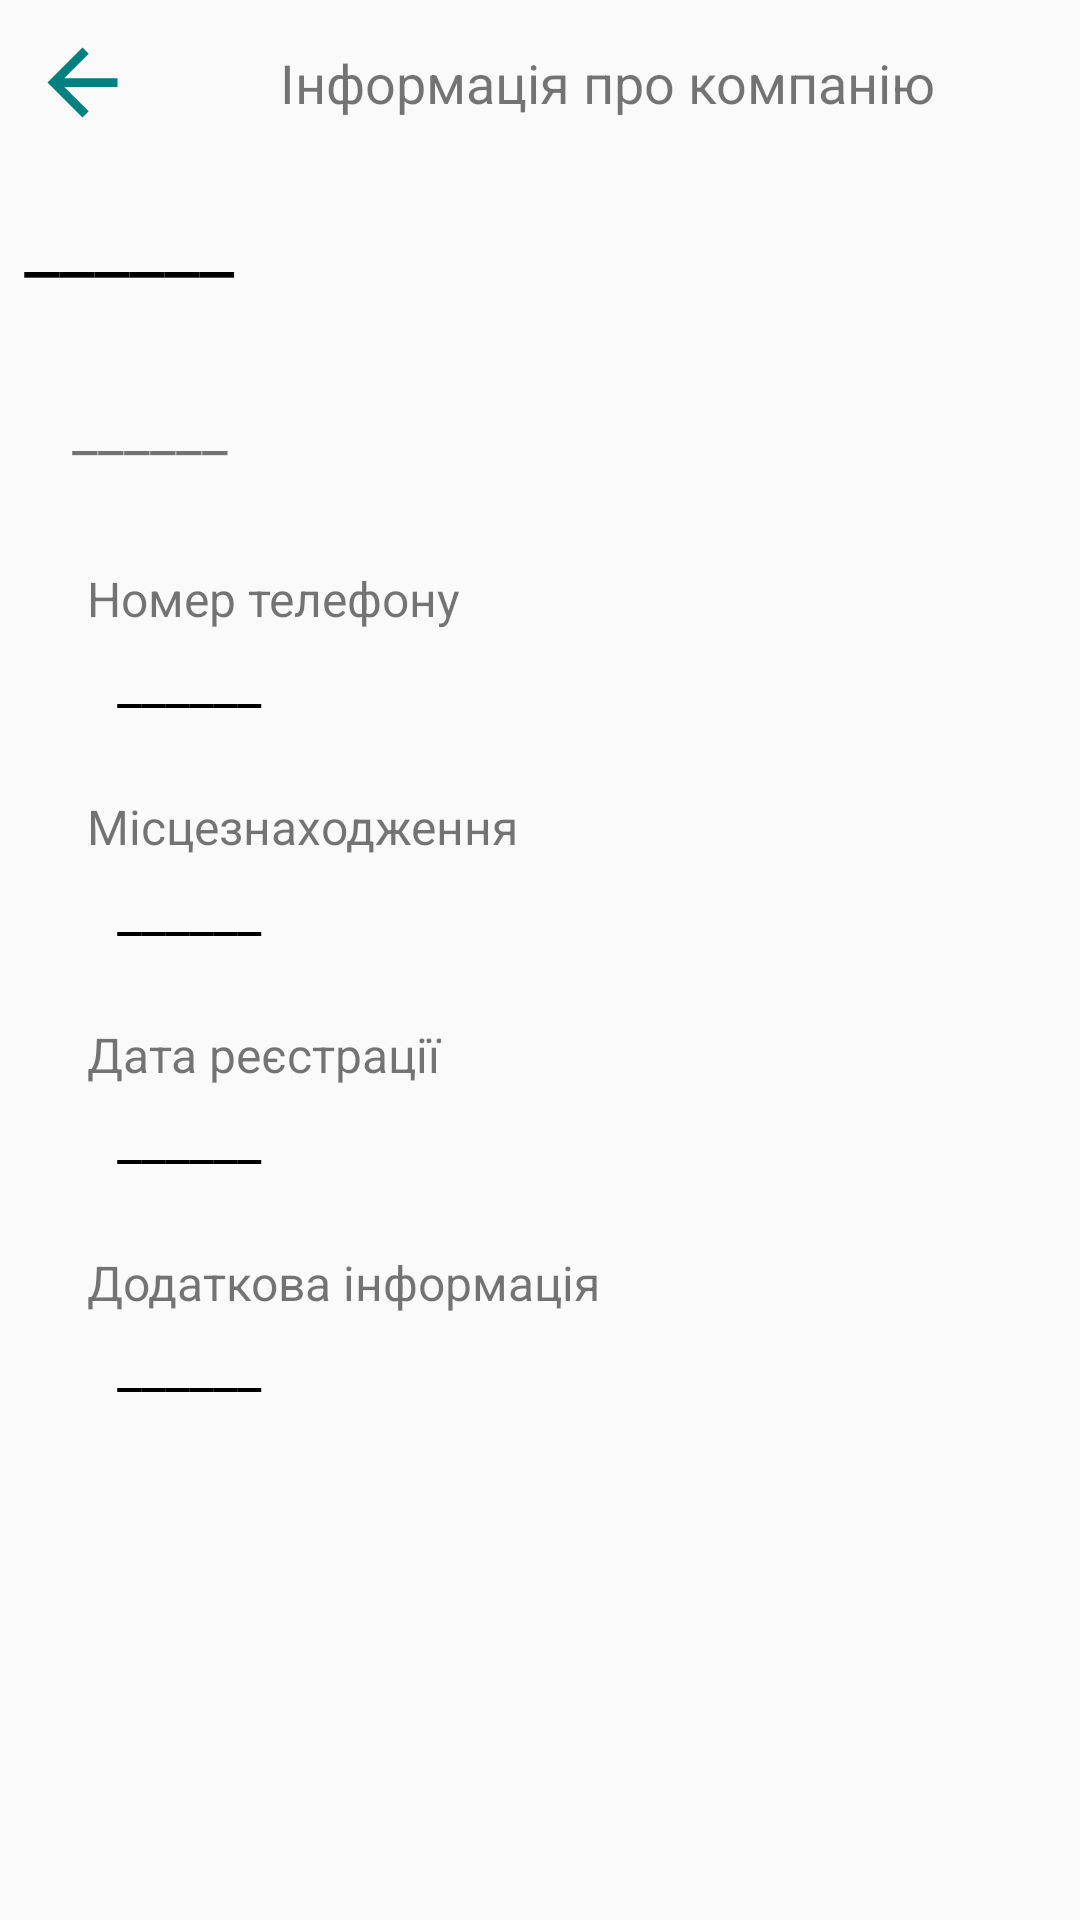

Icons on this 1080px×1920px Android screen, each with the point to tap as (x,y):
Кнопка Назад: (82,82)
